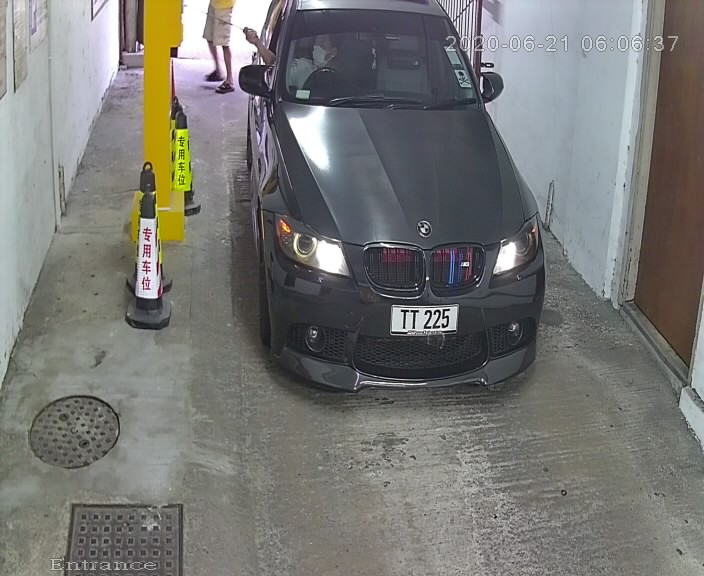privatecar: (235, 2, 553, 423)
